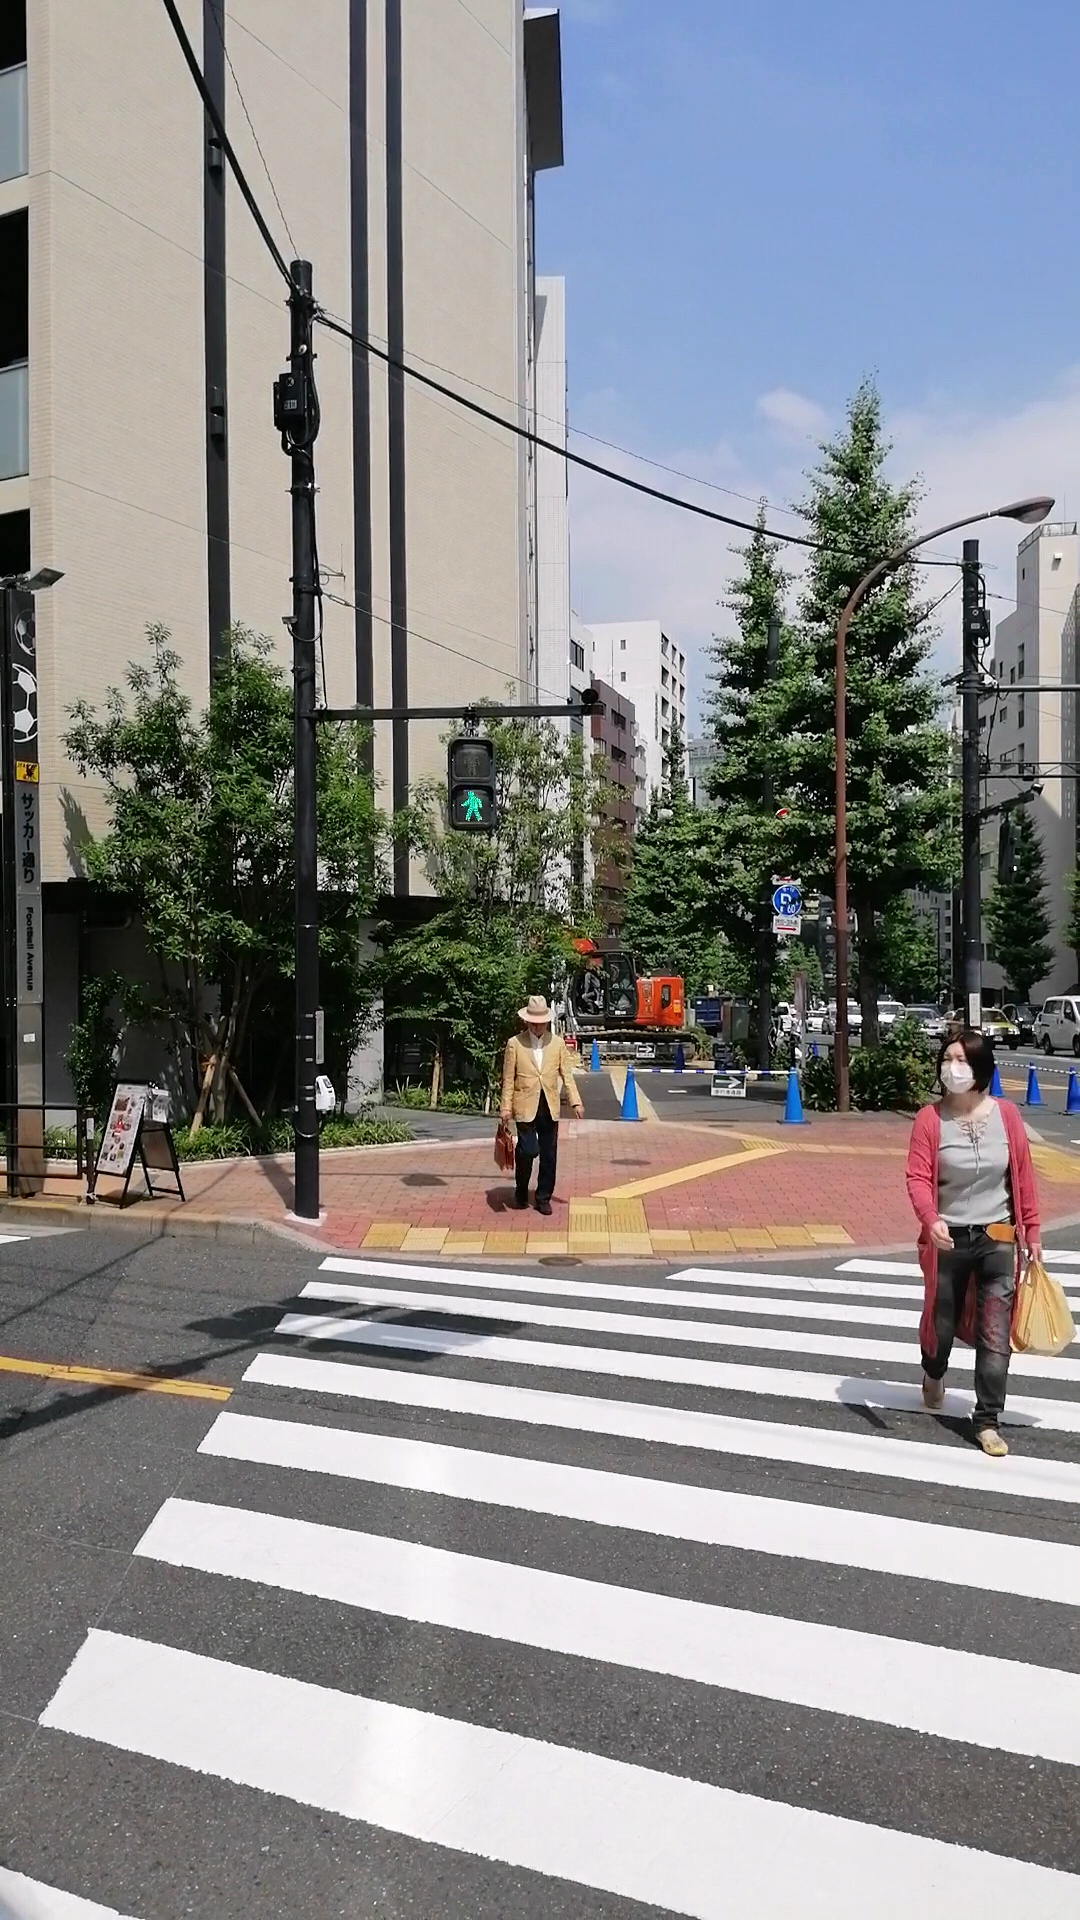green: (446, 735, 497, 831)
